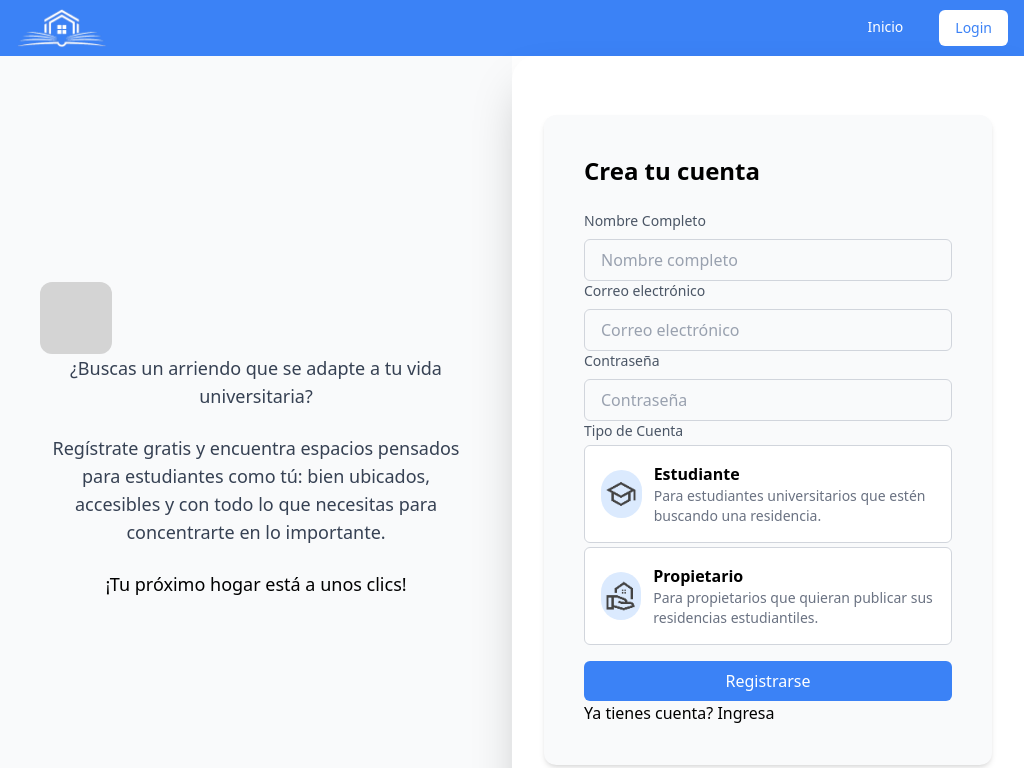
Test: SignupForm Interactions › should display a success message on successful registration (200 OK)
Fill out the form
Type "Test User" into the field named "name" at (768, 260), box [584,239,952,281]
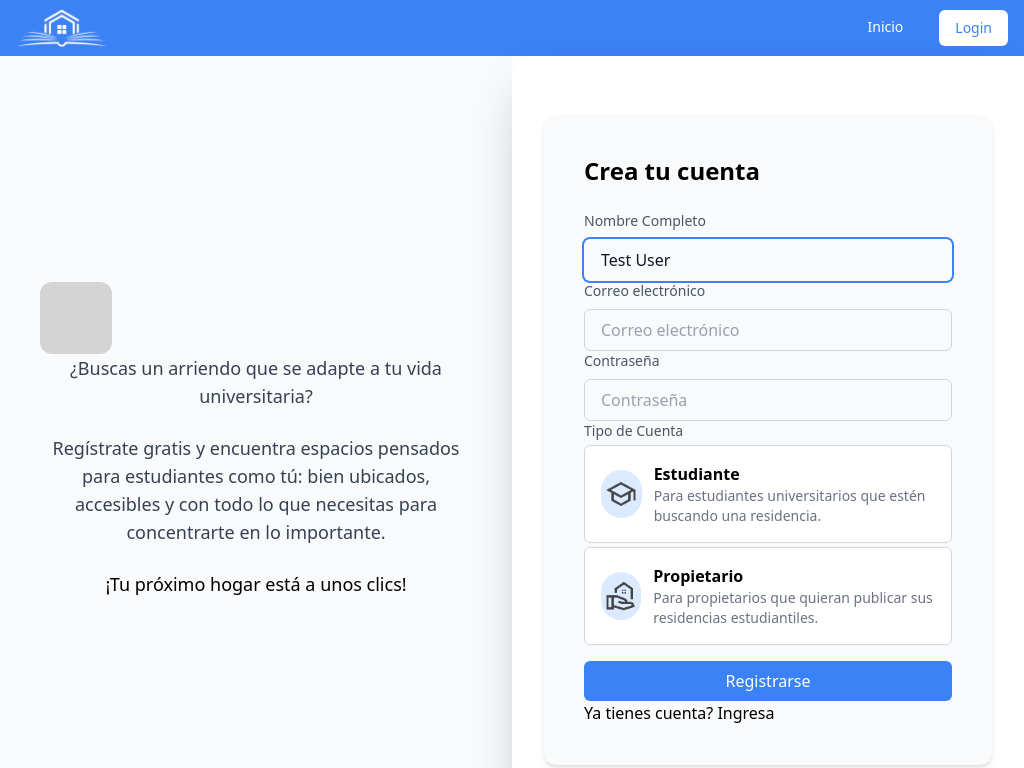
Type "test@example.com" into the field named "email" at (768, 330), box [584,309,952,351]
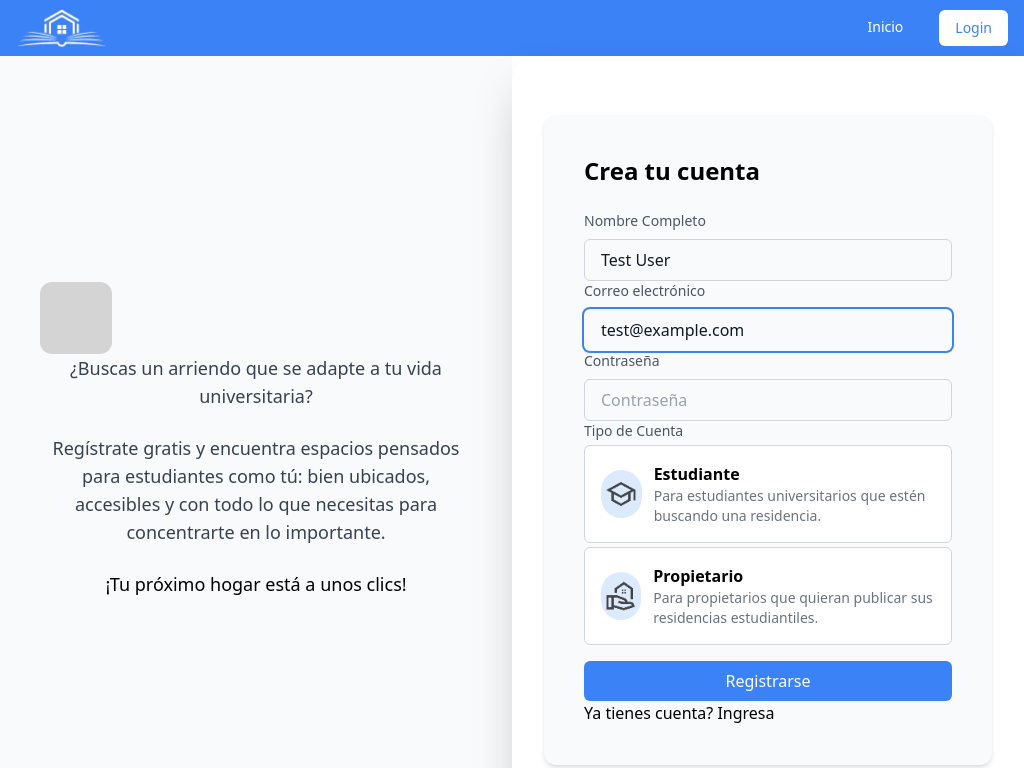
Type "password123" into the password field named "password" at (768, 400), box [584,379,952,421]
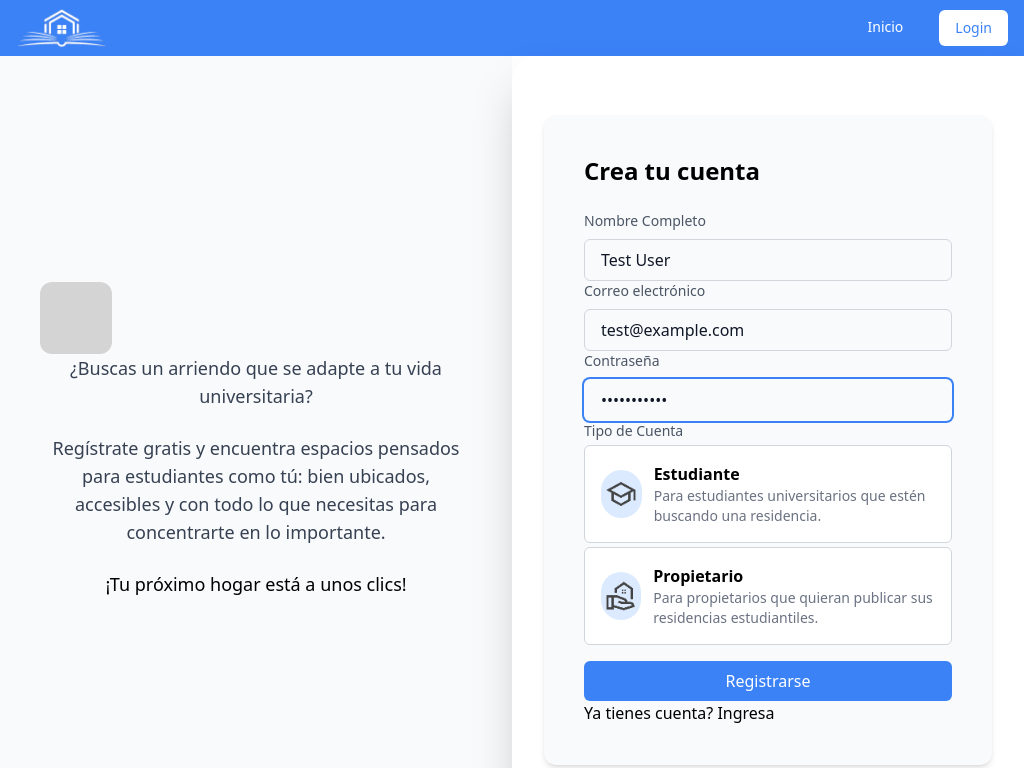
Click the button "Propietario" at (768, 596), box [584,547,952,645]
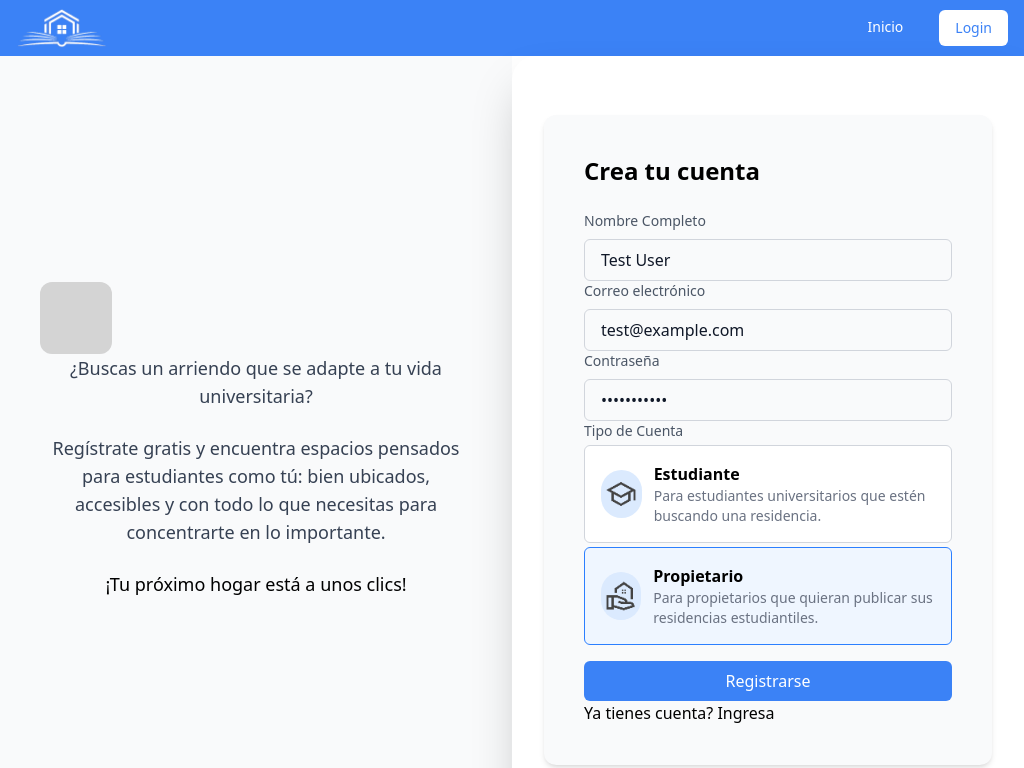
Submit the form, box [584,211,952,701]
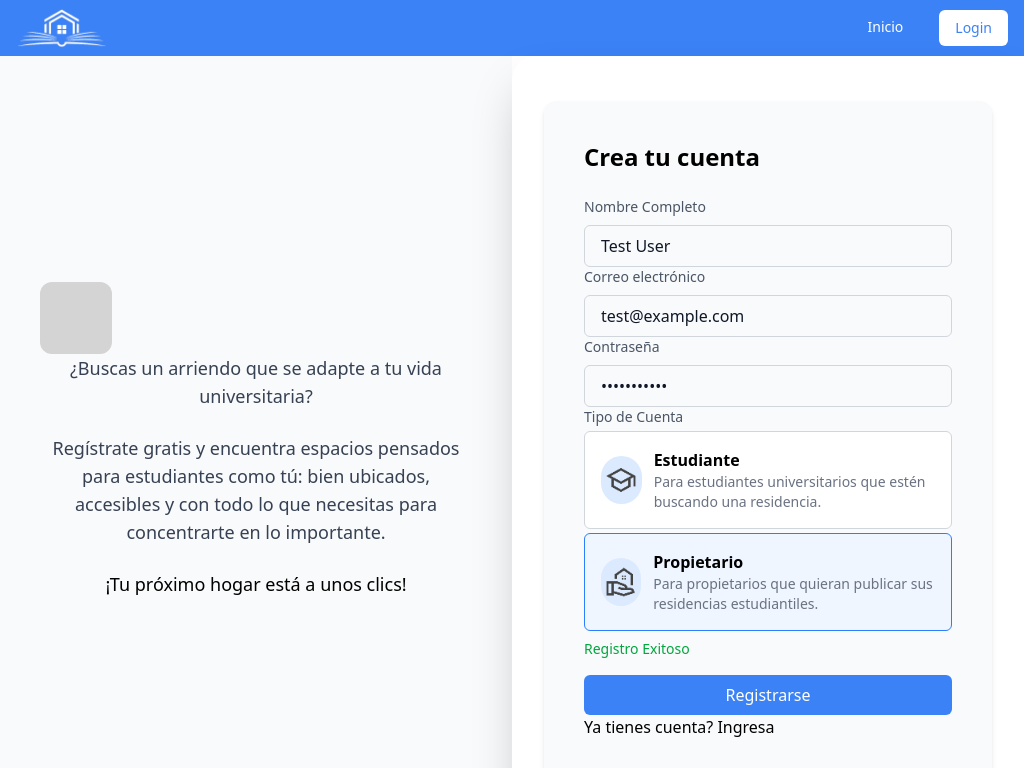
Now the text "Registro Exitoso" is shown, box [584,639,690,658]
